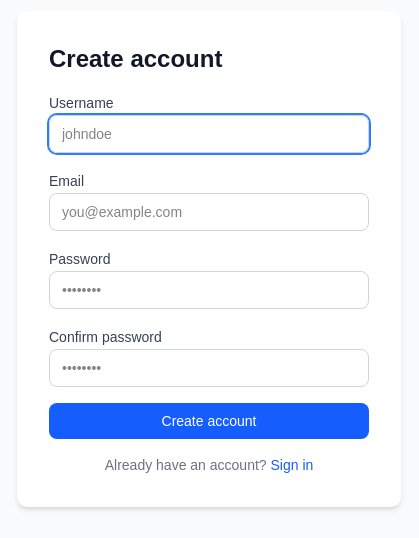
RegisterPage › shows error for too-short password
This screenshot has width=419, height=538.
Type "alice" into the field with placeholder "johndoe" at (209, 134), box [49,115,369,153]
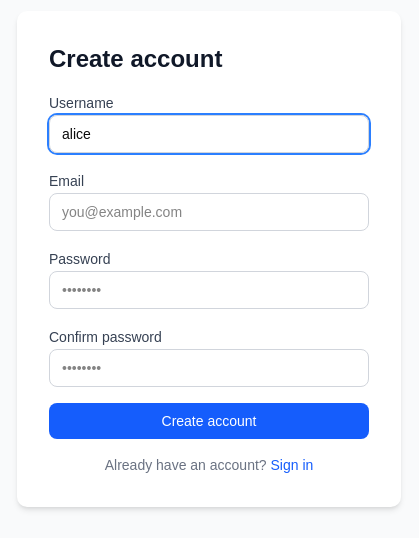
Type "alice@test.com" into the field with placeholder "you@example.com" at (209, 212), box [49,193,369,231]
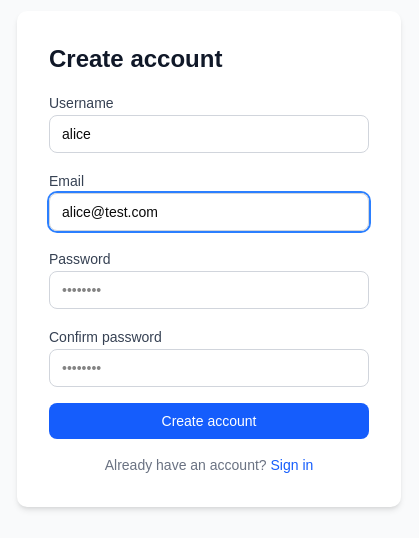
Type "short" into the 1st password field with placeholder "••••••••" at (209, 290), box [49,271,369,309]
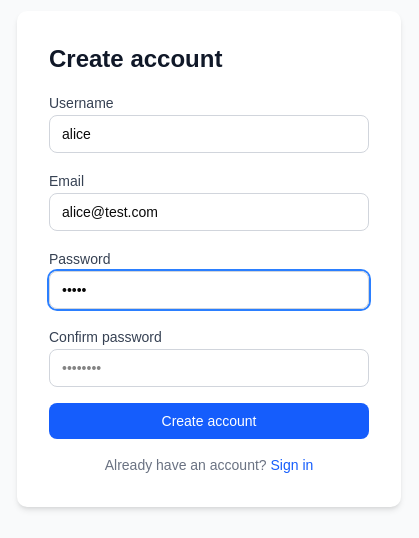
Type "short" into the password field with placeholder "••••••••" at (209, 368), box [49,349,369,387]
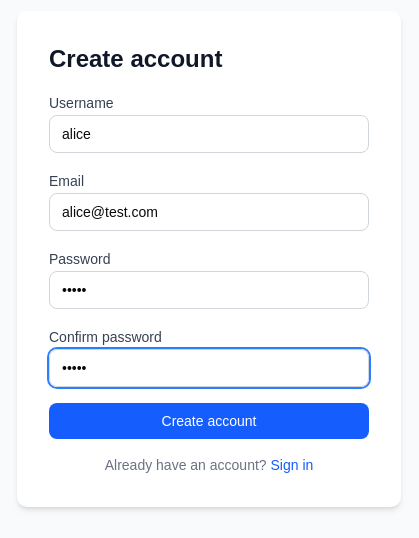
Click the button "Create account" at (209, 421), box [49,403,369,439]
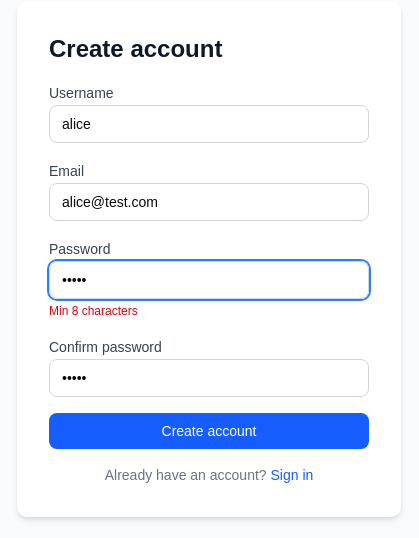
Now the text "Min 8 characters" is shown, box [49,304,138,318]
